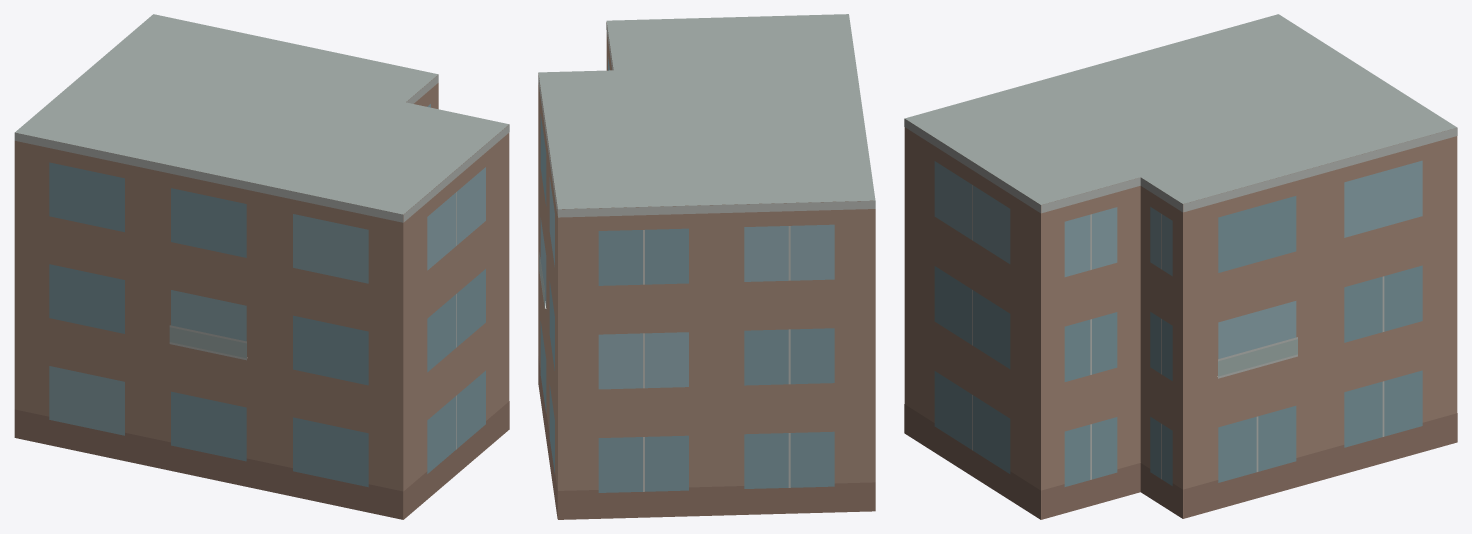
The model's file is survey-upis-32533104.glb.
3 renders of one model, left to right at view 1: azimuth 30°, elevation 25°; view 2: azimuth 150°, elevation 25°; view 3: azimuth 270°, elevation 25°, orthographic. The views are drawn at different scales.
Parts seen in each view (by area): view 1: survey-upis-32533104.tmp; view 2: survey-upis-32533104.tmp; view 3: survey-upis-32533104.tmp.
Boxes of the visible parts, <box> form: survey-upis-32533104.tmp: <box>14,14,509,519</box>; survey-upis-32533104.tmp: <box>538,14,875,519</box>; survey-upis-32533104.tmp: <box>904,14,1457,519</box>.
Bounding box in the file's own units: 11.85 × 9.1 × 14.49.
